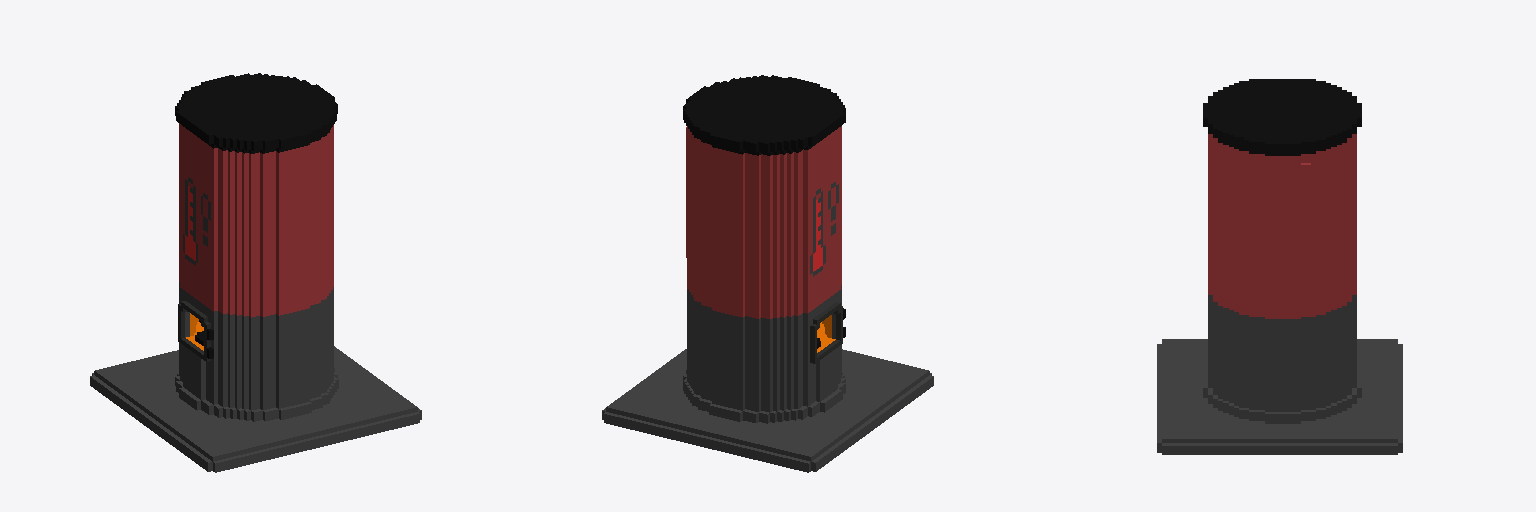
The picture shows the model from 3 angles: view 1: azimuth 30°, elevation 25°; view 2: azimuth 150°, elevation 25°; view 3: azimuth 270°, elevation 25°; orthographic projection.
Visible parts, largest first — view 1: object 1; view 2: object 1; view 3: object 1.
Boxes of the visible parts, box(x1,y1,x2,y2) form: object 1: box(90, 73, 421, 472); object 1: box(602, 75, 933, 472); object 1: box(1157, 79, 1402, 454).
Size of the model in its own units: 4.8 by 6.3 by 4.8.
Materials: 1 (1 with a texture image).